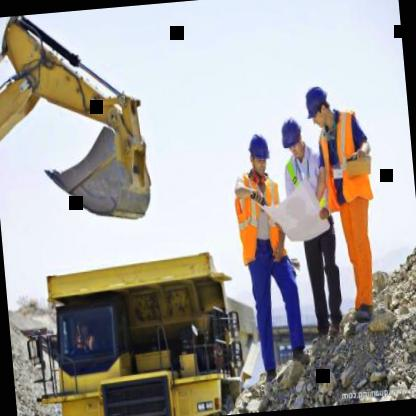helmet: (302, 81, 336, 132), (244, 130, 274, 179), (280, 112, 307, 160)
